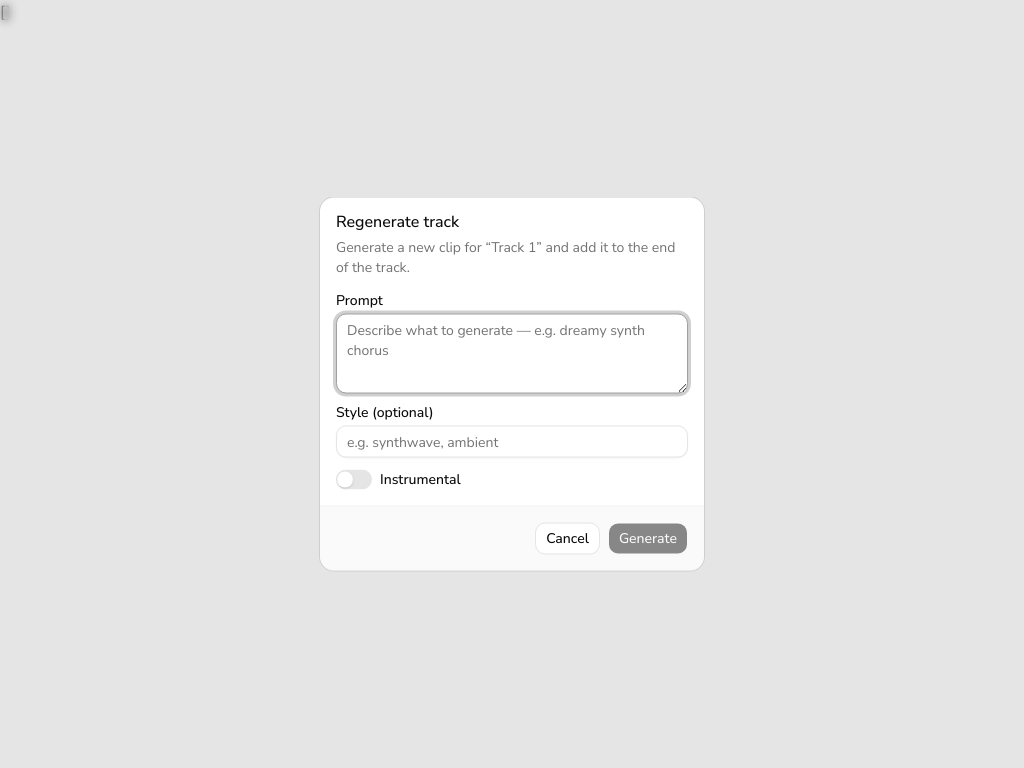
Test: TrackRegenerateDialog › shows the failure and keeps the dialog open when generation errors
Type "anything" into the text box labelled "Prompt" at (512, 354), box [336, 314, 688, 394]
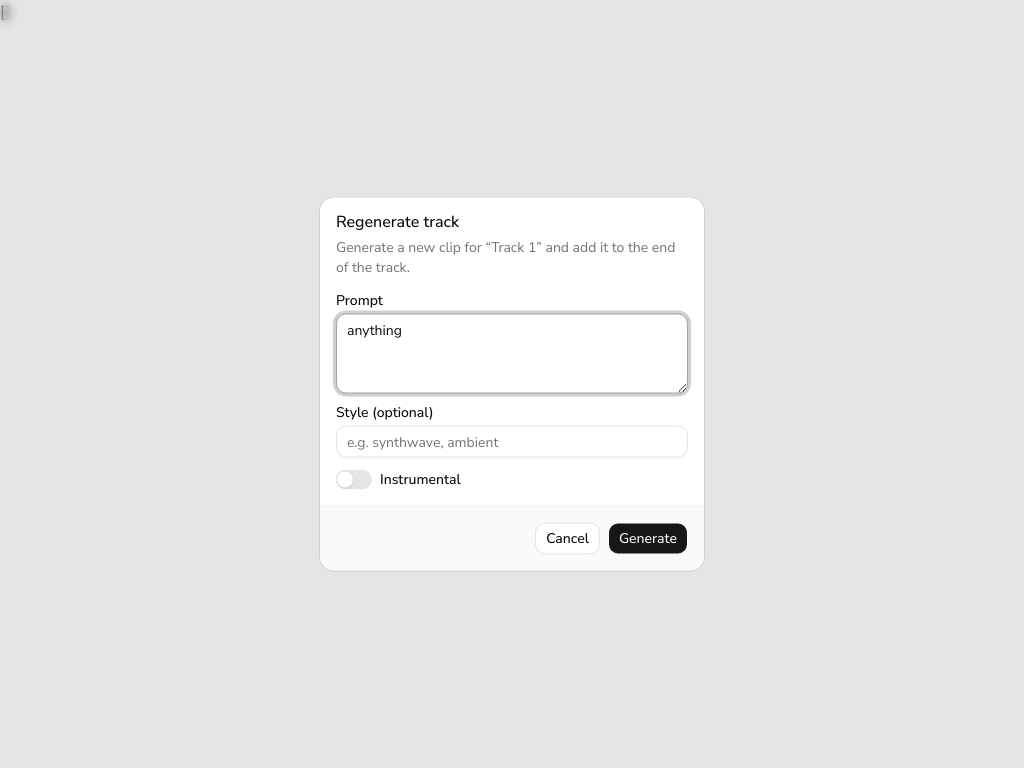
Click the button "Generate" at (648, 538), box [608, 522, 688, 554]
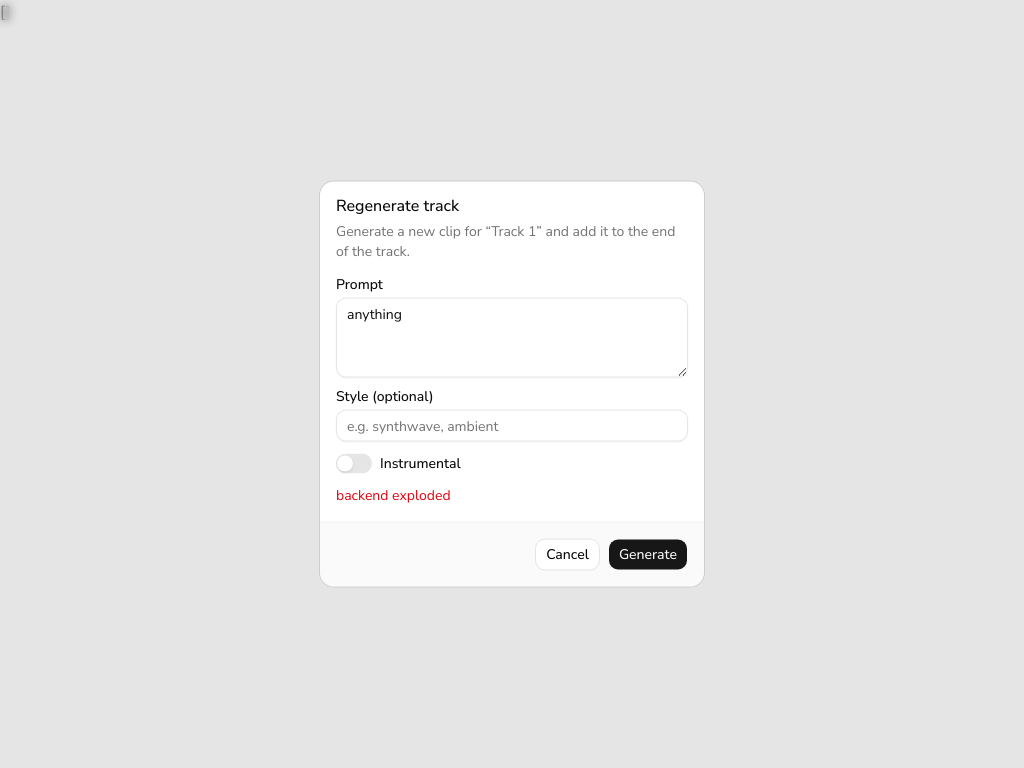
Expected: the dialog is shown, [320, 182, 704, 586]
Now the text "backend exploded" is shown, box [336, 486, 451, 504]
